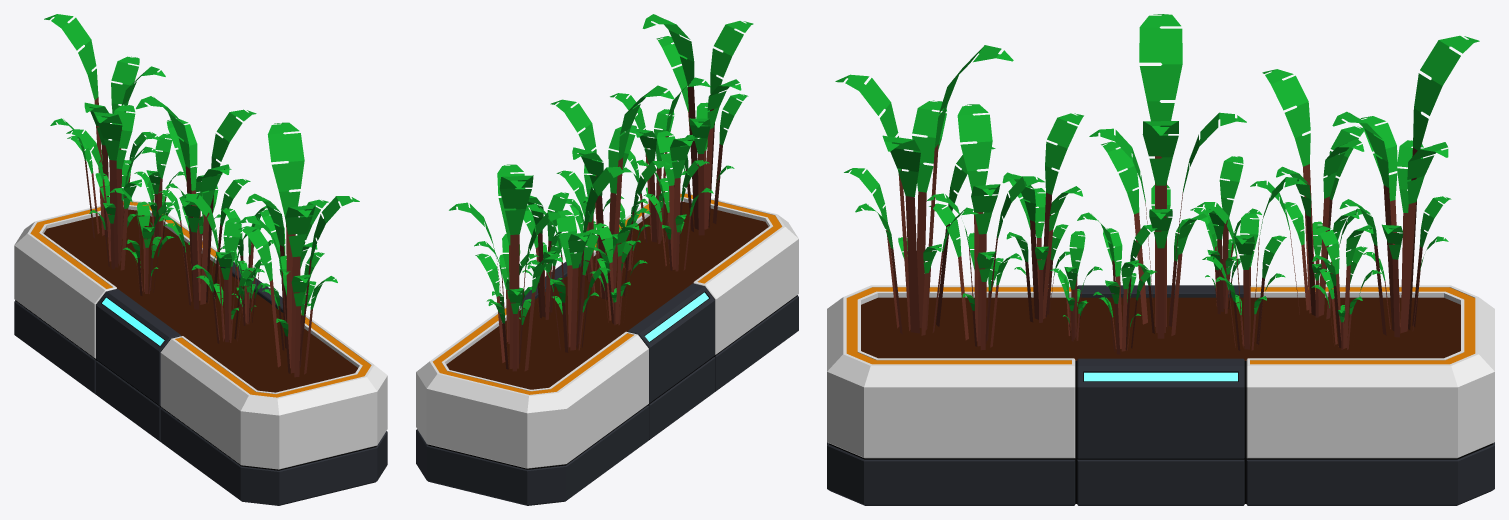
File: SM_Modular_PlanterLarge.fbx
3 views of the same model, side by side, from view 1: azimuth 30°, elevation 25°; view 2: azimuth 150°, elevation 25°; view 3: azimuth 270°, elevation 25° (orthographic). The views are drawn at different scales.
Visible parts, largest first — view 1: SM_Modular_PlanterLarge; view 2: SM_Modular_PlanterLarge; view 3: SM_Modular_PlanterLarge.
Boxes of the visible parts, <box> form: SM_Modular_PlanterLarge: <box>14,14,387,505</box>; SM_Modular_PlanterLarge: <box>416,14,798,505</box>; SM_Modular_PlanterLarge: <box>827,14,1494,505</box>.
Bounding box in the file's own units: 60 × 124 × 180.
